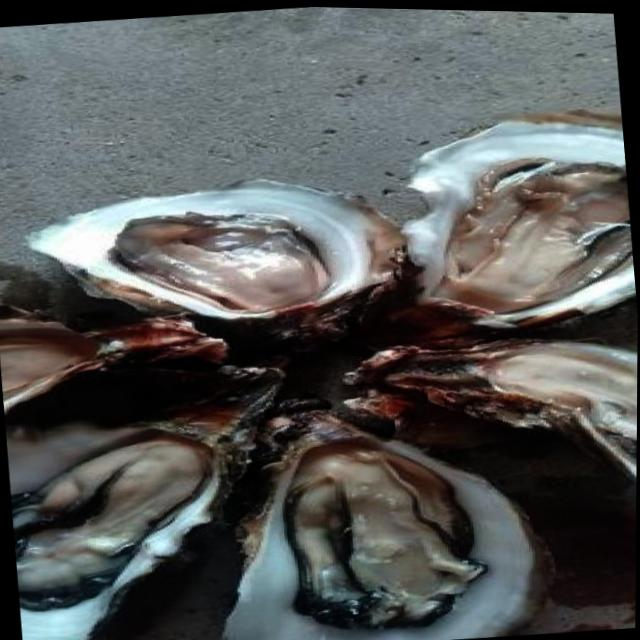Oyster-Open: (201, 377, 546, 640), (22, 161, 425, 367), (0, 374, 279, 640), (391, 100, 639, 339), (349, 322, 638, 517), (0, 285, 220, 419)
